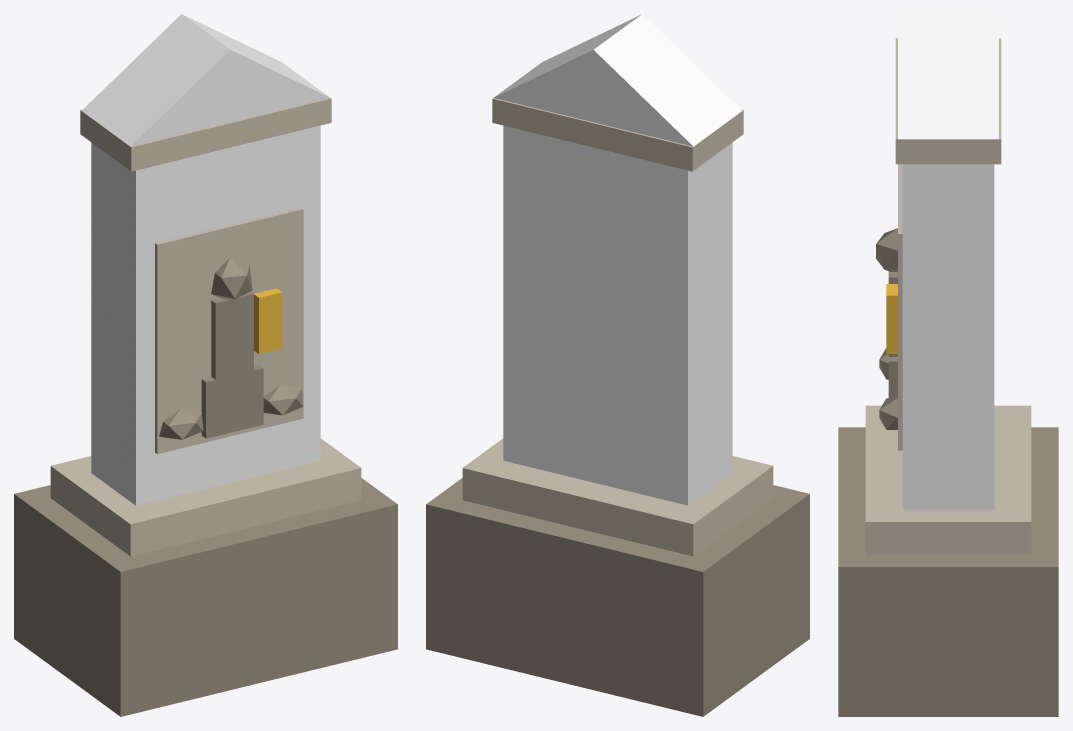
Rendered from orpheus.glb.
3 views of the same model, side by side, from view 1: azimuth 30°, elevation 25°; view 2: azimuth 150°, elevation 25°; view 3: azimuth 270°, elevation 25° (orthographic). The views are drawn at different scales.
Parts seen in each view (by area): view 1: Orpheus; view 2: Orpheus; view 3: Orpheus.
Part boxes in pixels (bbox=[...]): Orpheus: bbox=[14, 14, 397, 716]; Orpheus: bbox=[426, 14, 809, 716]; Orpheus: bbox=[838, 14, 1058, 716].
Bounding box in the file's own units: 3.6 × 7.6 × 2.4.
